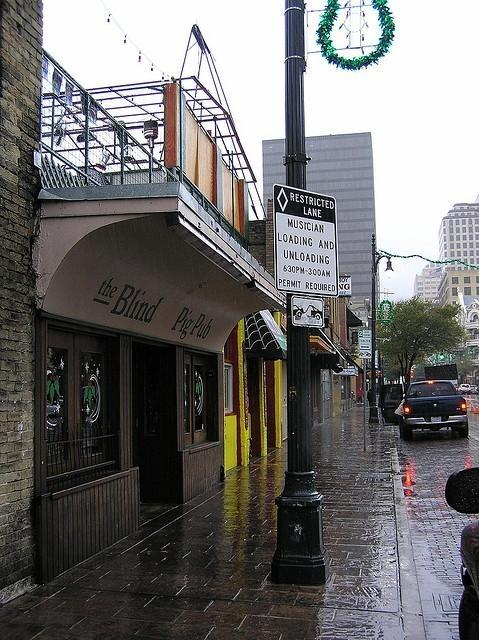car: (458, 383, 471, 395)
truck: (398, 380, 469, 440)
